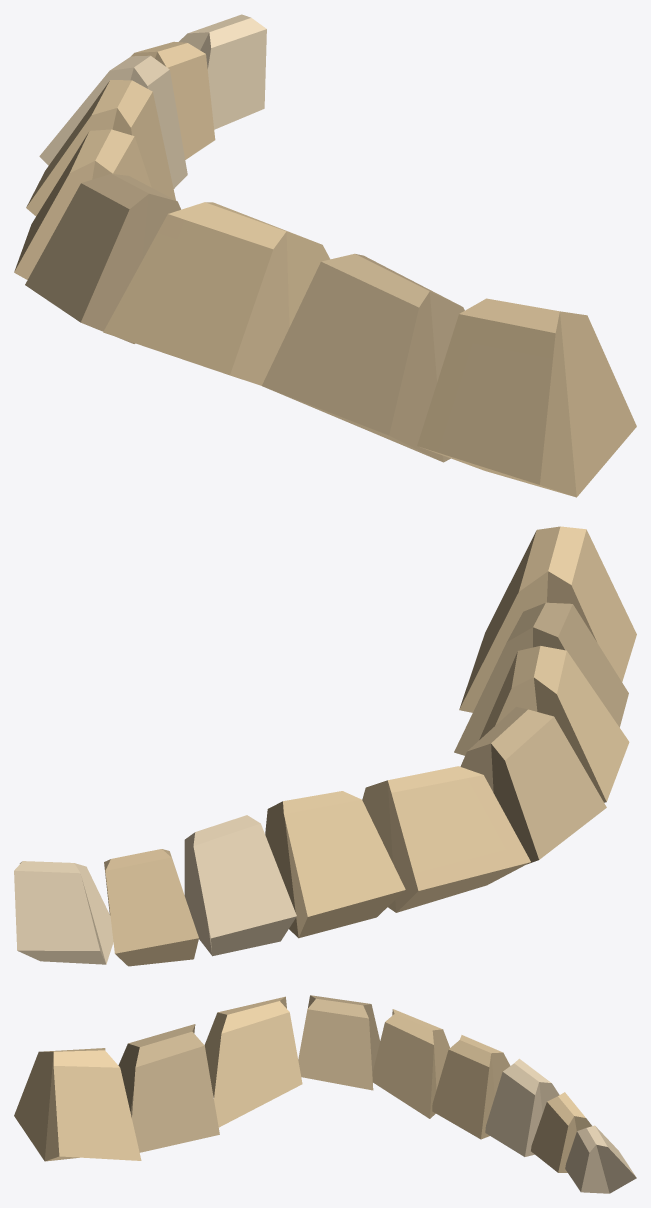
File: Bone_Spine_1__0.glb
The picture shows the model from 3 angles, top to bottom: view 1: azimuth 30°, elevation 25°; view 2: azimuth 150°, elevation 25°; view 3: azimuth 270°, elevation 25°; orthographic projection. The views are drawn at different scales.
Visible parts, largest first — view 1: Bone_Spine_1__0; view 2: Bone_Spine_1__0; view 3: Bone_Spine_1__0.
Boxes of the visible parts, x1,y1,x2,y2 form: Bone_Spine_1__0: (14, 14, 636, 497); Bone_Spine_1__0: (14, 526, 636, 966); Bone_Spine_1__0: (14, 995, 636, 1193).
Size of the model in its own units: 0.2902 by 0.1262 by 0.6207.
Materials: 1 (1 with a texture image).
